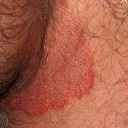Wart: (4, 26, 91, 114)
